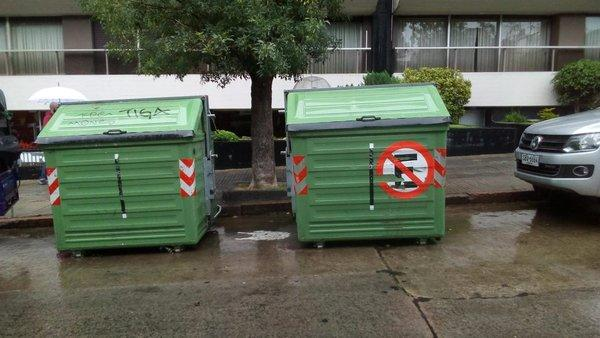Trash: (39, 96, 225, 256), (282, 86, 454, 249)
